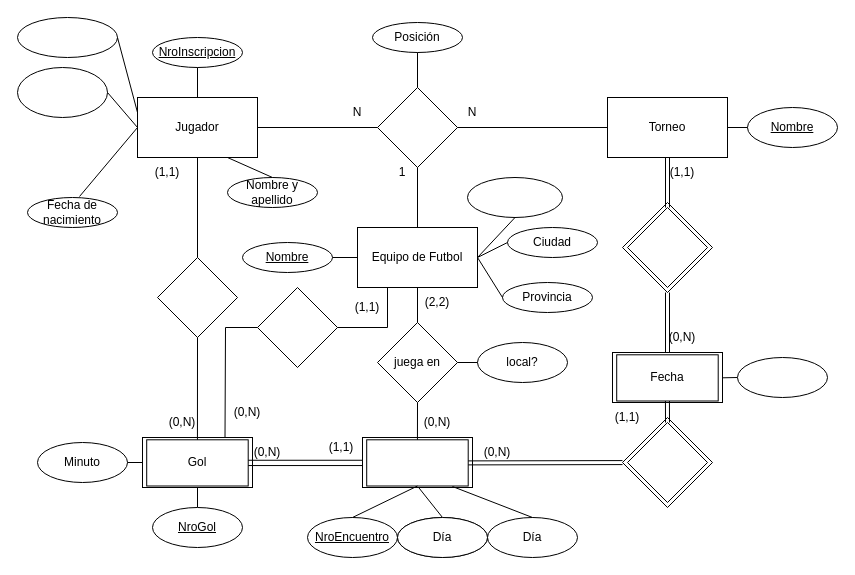
Image size: 855x575. Some labels were removed from this diagram. Each missing label, with the centre of its shape:
A favor de: (297,327)
Ciudad de origen: (62,92)
Encuentro: (417,462)
FechaInscipcion: (514,197)
marcó: (197,297)
NroFecha: (782,377)
participa en: (417,127)
Provincia de Origen: (67,37)
se disputa: (667,462)
Tiene: (667,247)
